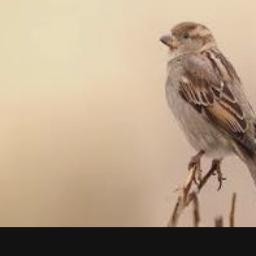Sparrow: (159, 22, 256, 215)
